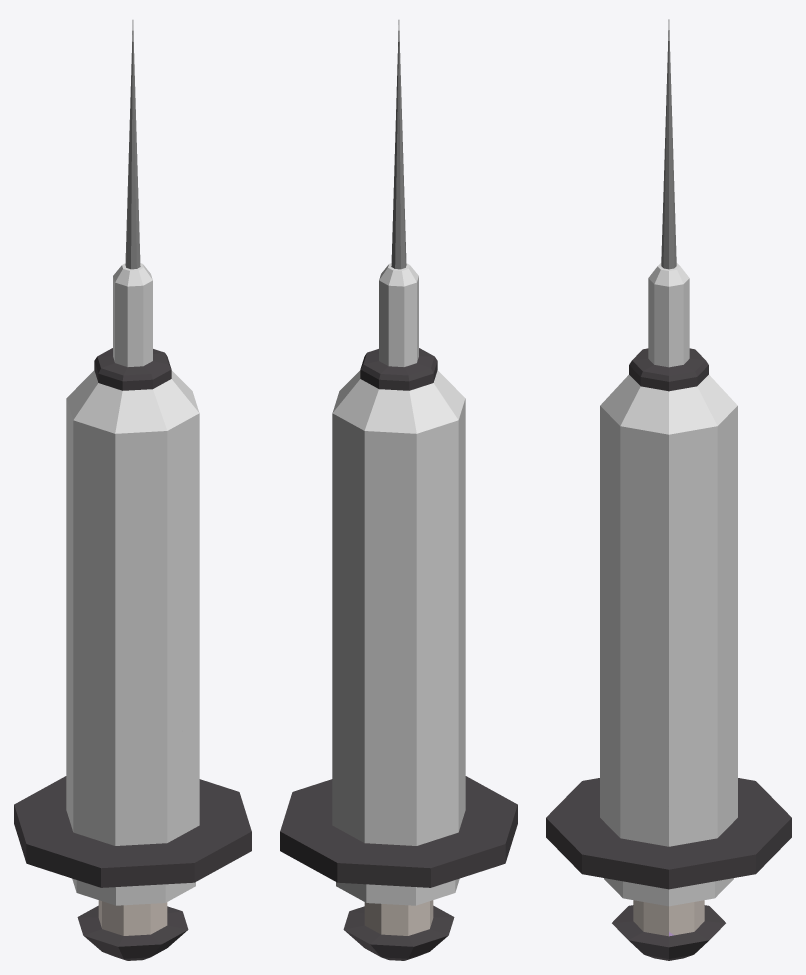
Rendered from syringe.fbx.
3 views of the same model, side by side, from view 1: azimuth 30°, elevation 25°; view 2: azimuth 150°, elevation 25°; view 3: azimuth 270°, elevation 25° (orthographic).
Parts seen in each view (by area): view 1: Cylinder; view 2: Cylinder; view 3: Cylinder.
Part boxes in pixels (box(x1,y1,x2,y2)): Cylinder: box(14, 20, 251, 960); Cylinder: box(280, 20, 517, 960); Cylinder: box(546, 19, 791, 960).
Bounding box in the file's own units: 338 × 1421 × 338.
1 material, 1 textured.
